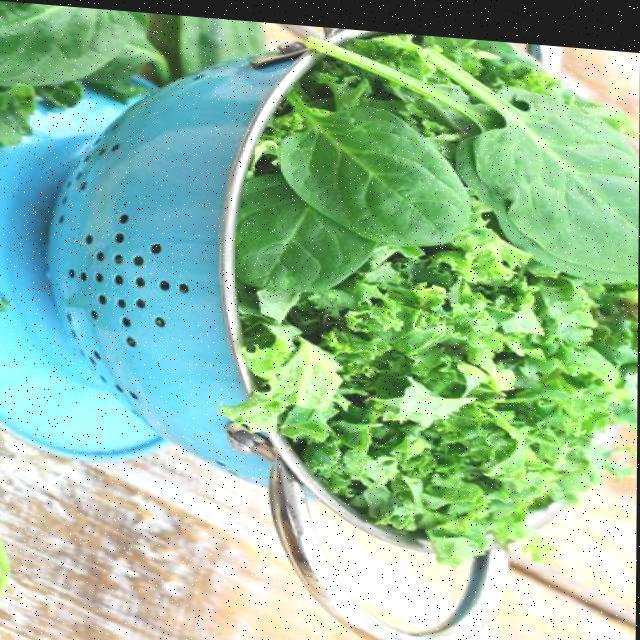Spinach: (232, 17, 640, 313), (0, 0, 275, 106)
